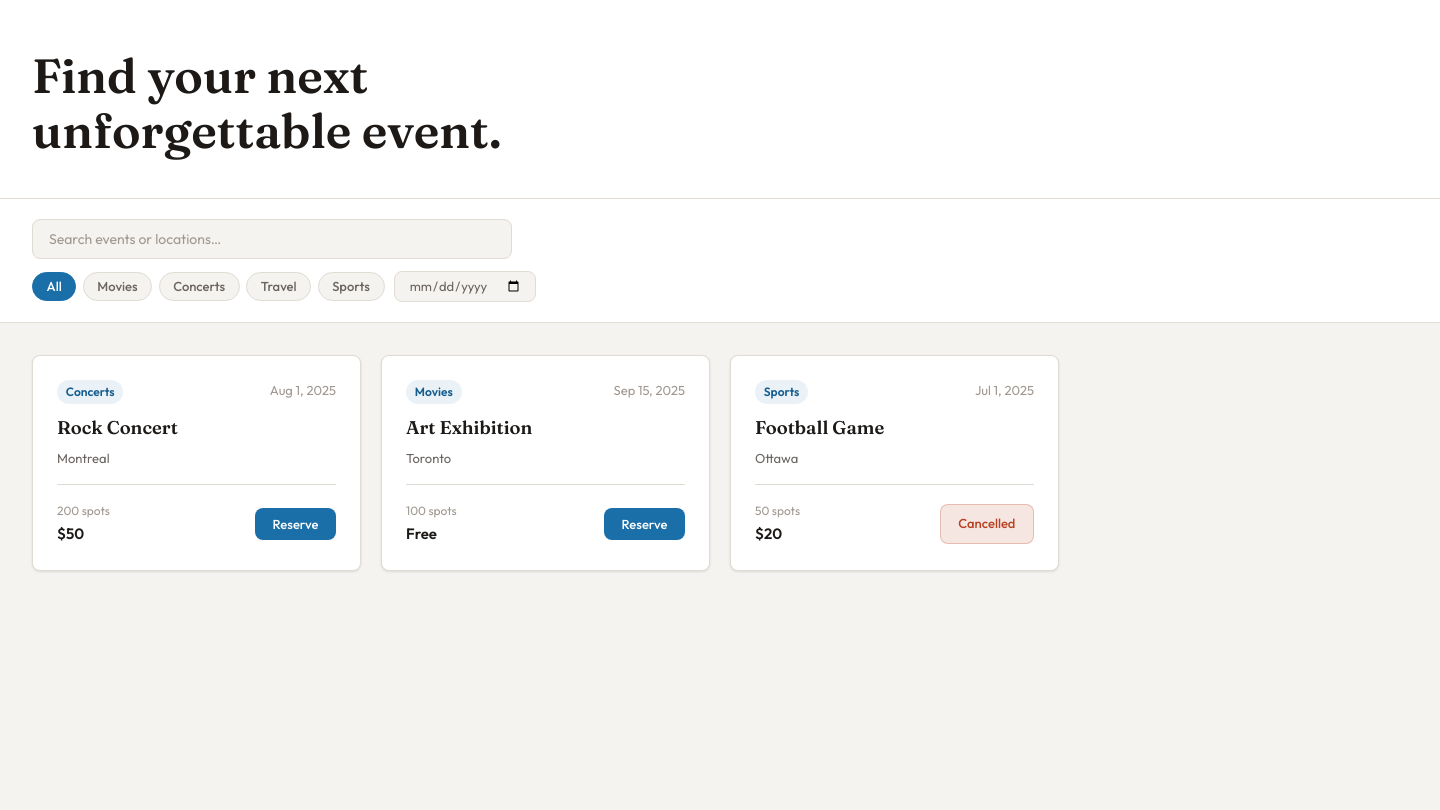
Test: HomePage — filtering by category › shows only matching events when a category is selected
Click the button "Concerts".
click(199, 286)  # box top-left (159, 272), bottom-right (240, 301)
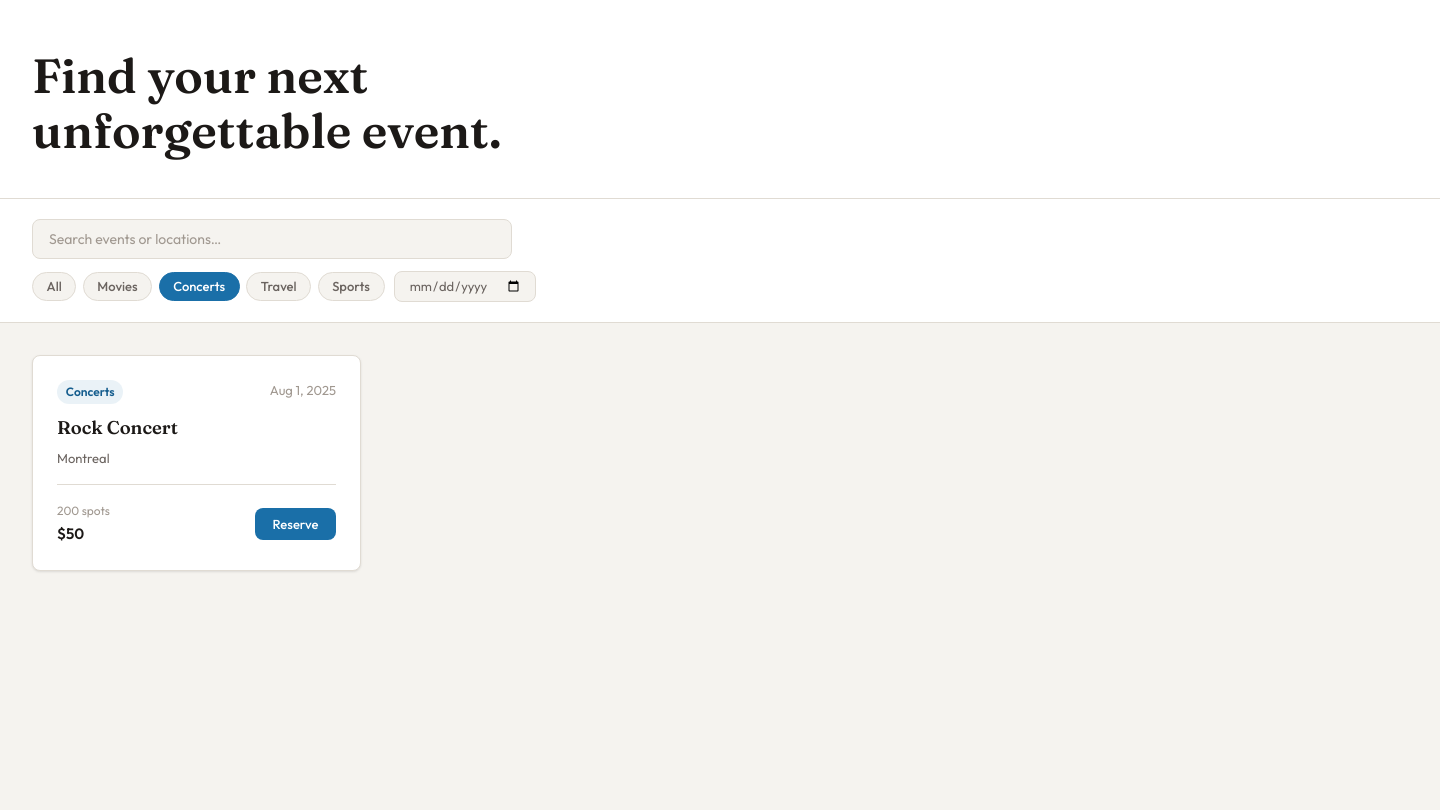
Expected: the heading "Rock Concert" is shown, top-left (57, 416), bottom-right (178, 439)
Now the heading "Art Exhibition" is gone
